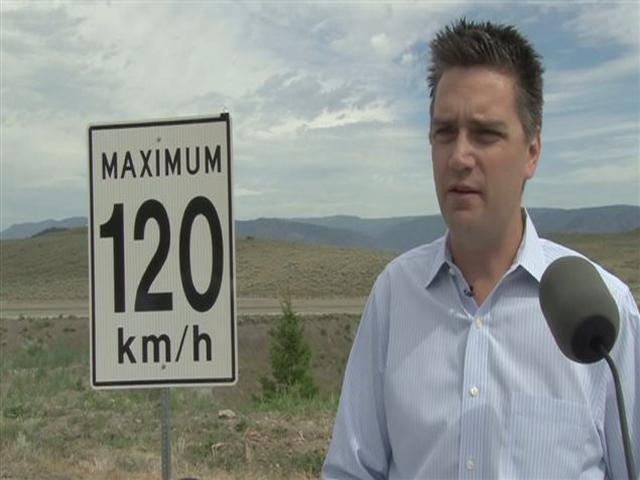vitesse: (85, 123, 241, 387)
